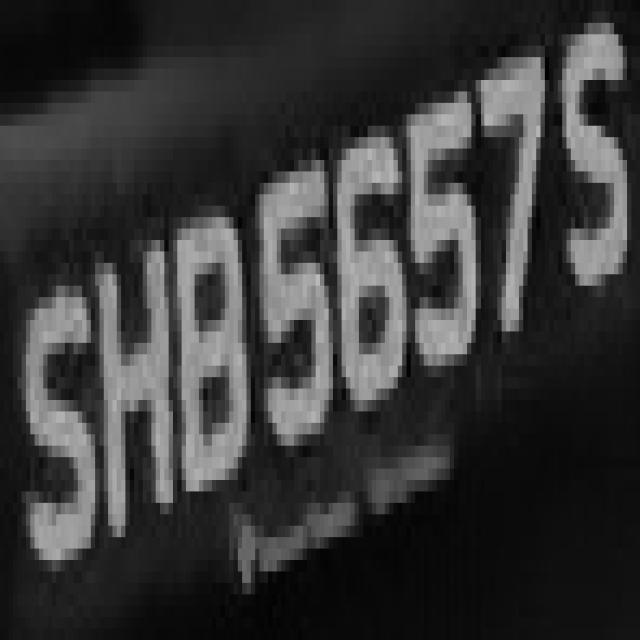5: (255, 148, 337, 468), (394, 80, 476, 389)
6: (333, 126, 419, 468)
7: (476, 46, 558, 388)
B: (177, 195, 264, 514)
H: (95, 206, 173, 560)
S: (13, 251, 95, 606), (550, 11, 632, 332)
